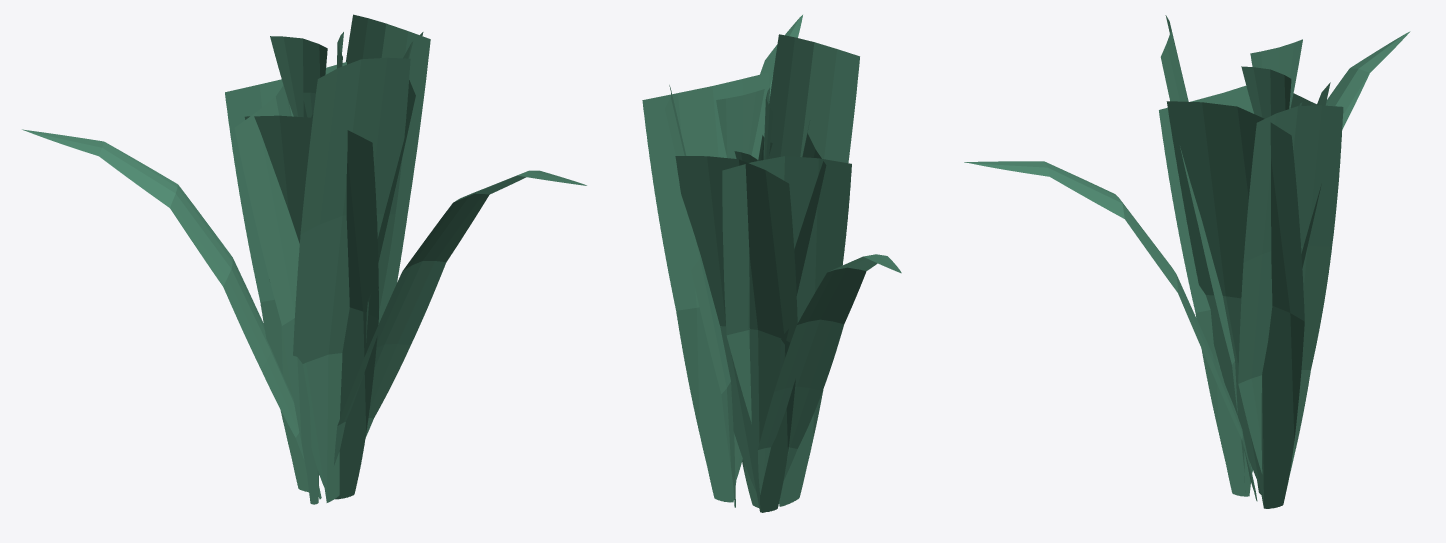
The model's file is mombaca_grass_cut.fbx.
The picture shows the model from 3 angles, left to right: view 1: azimuth 30°, elevation 25°; view 2: azimuth 150°, elevation 25°; view 3: azimuth 270°, elevation 25°; orthographic projection. The views are drawn at different scales.
Visible parts, largest first — view 1: palmito_leaf.002; view 2: palmito_leaf.002; view 3: palmito_leaf.002.
Part boxes in pixels (bbox=[...]): palmito_leaf.002: bbox=[22, 14, 586, 504]; palmito_leaf.002: bbox=[642, 15, 901, 512]; palmito_leaf.002: bbox=[964, 15, 1410, 508].
Bounding box in the file's own units: 98.03 × 118 × 109.
